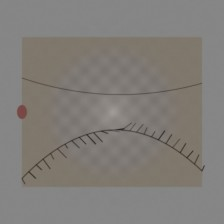corneal_ulcer: (89, 90, 146, 135)
